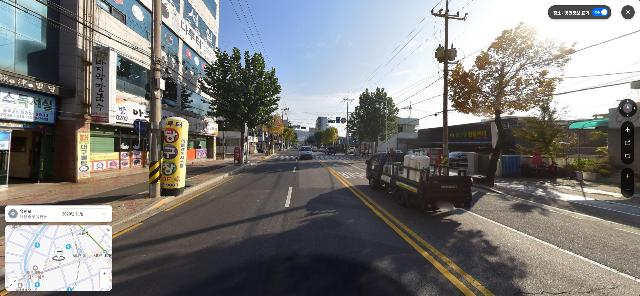ginkgo: (267, 116, 286, 155), (321, 128, 339, 151)
other: (436, 22, 577, 187), (199, 47, 284, 165), (509, 97, 575, 165), (349, 87, 399, 158), (312, 129, 327, 149), (284, 132, 294, 151), (289, 130, 297, 148)
